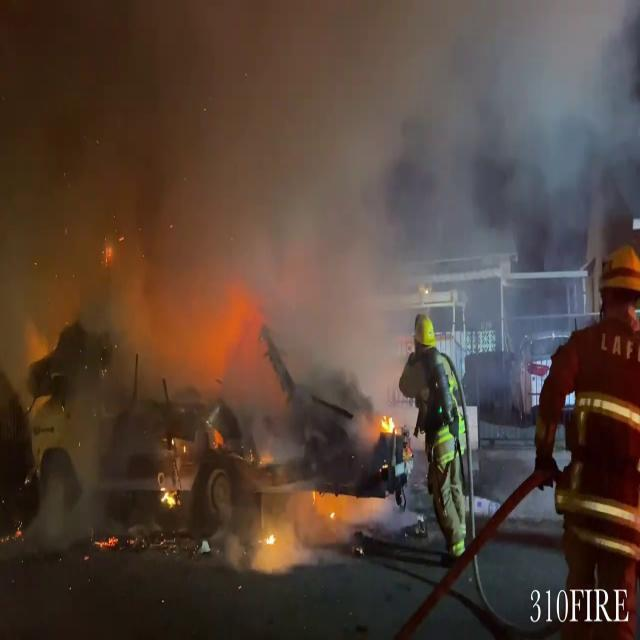Smoke: (1, 0, 623, 374)
